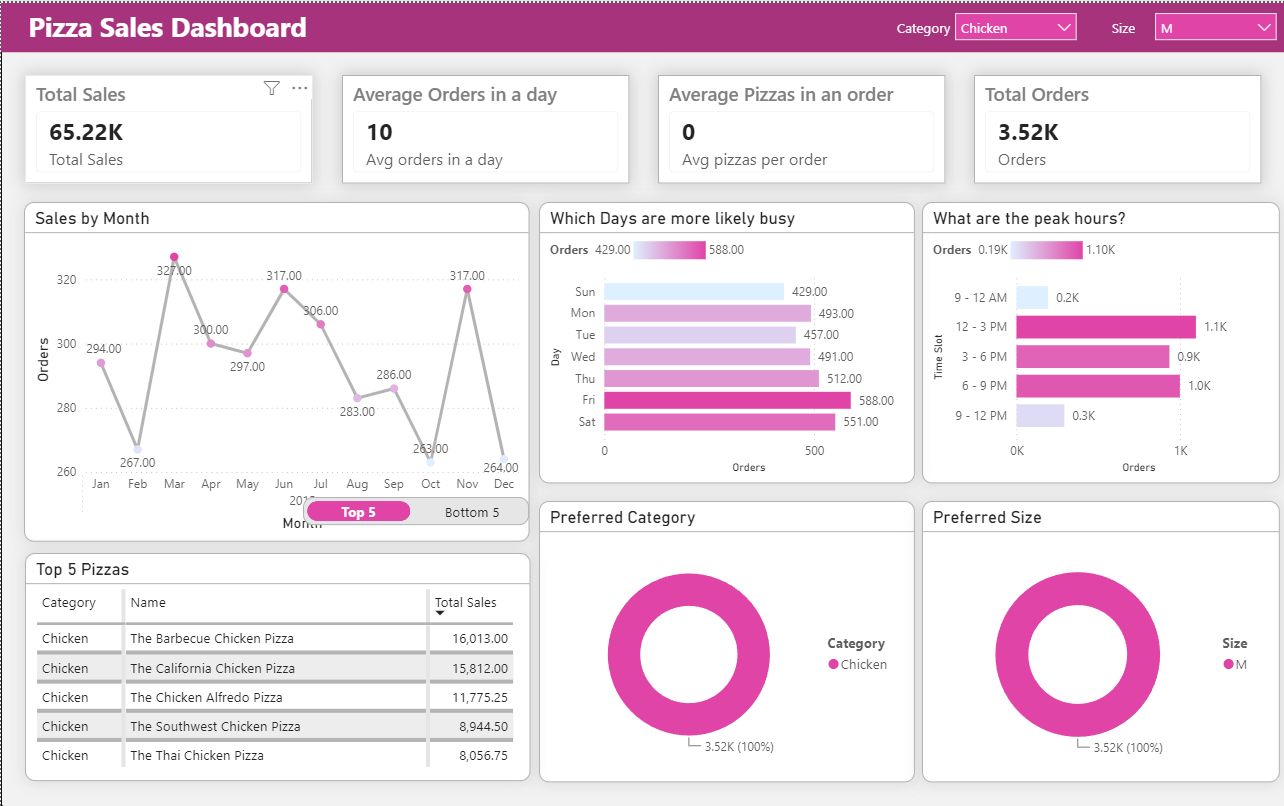

This screenshot's page, from the dashboard's own definition file:
{"tool":"powerbi","page":{"name":"Page 1","canvas":[1280,800],"ordinal":0},"visuals":[{"type":"textbox","box":[0,0,1279.6,48.8],"z":0},{"type":"slicer","fields":{"Values":["Pizza Type.Category"]},"box":[938.9,0,141.5,49.1],"z":0,"group":"g1"},{"type":"slicer","fields":{"Values":["Pizzas.Size"]},"box":[1138.1,0,141.5,49.1],"z":0,"group":"g2"},{"type":"shape","box":[889.1,0,57,49.1],"z":1000,"group":"g1"},{"type":"shape","box":[1088.3,0,57,49.1],"z":1000,"group":"g2"},{"type":"barChart","title":"What are the peak hours?","fields":{"Category":["Orders.Time Slot"],"Y":["All Measures.Order"]},"box":[916.1,198.5,355.9,279.5],"z":1000},{"type":"barChart","title":"Which Days are more likely busy","fields":{"Category":["Date Table.Day"],"Y":["All Measures.Order"]},"box":[535,198.5,374.2,279.5],"z":2000},{"type":"lineChart","title":"Sales by Month","fields":{"Category":["Date Table.Year","Date Table.Month"],"Y":["All Measures.Order"]},"box":[22.8,198.5,503.1,337.7],"z":3000},{"type":"donutChart","title":"Preferred Category","fields":{"Category":["Pizza Type.Category"],"Y":["All Measures.Orders"]},"box":[535,495.1,374.2,279.5],"z":4000},{"type":"donutChart","title":"Preferred Size","fields":{"Y":["All Measures.Orders"],"Category":["Pizzas.Size"]},"box":[916.1,495.1,355.9,279.5],"z":5000},{"type":"tableEx","title":"Top 5 Pizzas","fields":{"Values":["Pizza Type.Category","Pizza Type.Name","All Measures.Total Sales"]},"box":[24,547.6,503.1,227],"z":6000},{"type":"bookmarkNavigator","box":[300.5,491.1,225.4,28.2],"z":8000},{"type":"cardVisual","title":"Total Sales","fields":{"Data":["All Measures.Total Sales"]},"box":[24,71.9,286.3,108.4],"z":9000},{"type":"cardVisual","title":"Total Orders","fields":{"Data":["All Measures.Orders"]},"box":[968.6,71.9,286.3,108.4],"z":10000},{"type":"cardVisual","title":"Average Pizzas in an order","fields":{"Data":["All Measures.Avg pizzas per order"]},"box":[653.7,71.9,286.3,108.4],"z":11000},{"type":"cardVisual","title":"Average Orders in a day","fields":{"Data":["All Measures.Avg orders in a day"]},"box":[338.8,71.9,286.3,108.4],"z":12000},{"type":"group","id":"g1","title":"Size Slicer","box":[889.1,0,191.2,49.1],"z":13000},{"type":"group","id":"g2","title":"Category Slicer","box":[1088.3,0,191.7,49.1],"z":14000}]}

Visuals, with their boxes in screenshot pixels (x1, y1, x2, y2), scaled from the page's 1280x800 canvas onto the 1284x806 screenshot:
textbox: box(0, 0, 1283, 49)
slicer - Pizza Type.Category: box(942, 0, 1084, 49)
slicer - Pizzas.Size: box(1142, 0, 1283, 49)
shape: box(892, 0, 949, 49)
shape: box(1092, 0, 1149, 49)
"What are the peak hours?" barChart: box(919, 200, 1276, 482)
"Which Days are more likely busy" barChart: box(537, 200, 912, 482)
"Sales by Month" lineChart: box(23, 200, 528, 540)
"Preferred Category" donutChart: box(537, 499, 912, 780)
"Preferred Size" donutChart: box(919, 499, 1276, 780)
"Top 5 Pizzas" tableEx: box(24, 552, 529, 780)
bookmarkNavigator: box(301, 495, 528, 523)
"Total Sales" cardVisual: box(24, 72, 311, 182)
"Total Orders" cardVisual: box(972, 72, 1259, 182)
"Average Pizzas in an order" cardVisual: box(656, 72, 943, 182)
"Average Orders in a day" cardVisual: box(340, 72, 627, 182)
"Size Slicer" group: box(892, 0, 1084, 49)
"Category Slicer" group: box(1092, 0, 1283, 49)
